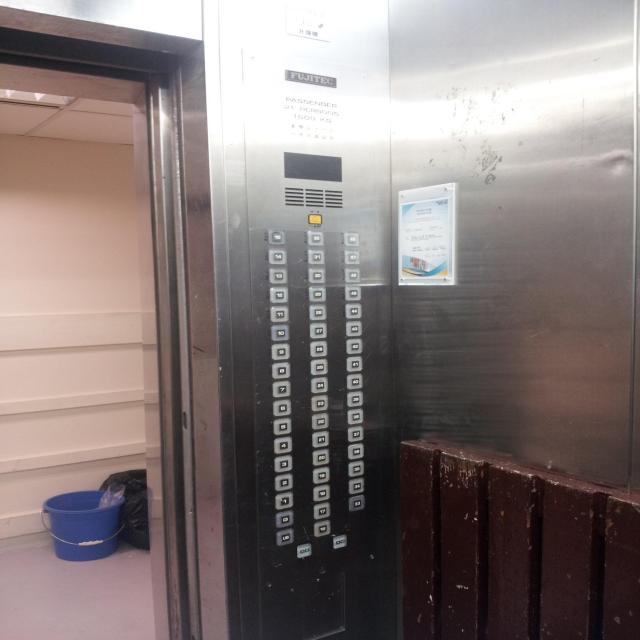1: (275, 492, 293, 509)
10: (271, 325, 289, 340)
11: (270, 306, 289, 322)
12: (269, 286, 288, 302)
13: (269, 268, 287, 283)
14: (268, 248, 287, 264)
15: (268, 229, 286, 245)
16: (314, 520, 329, 536)
17: (313, 502, 330, 519)
18: (313, 485, 329, 501)
19: (312, 467, 329, 483)
2: (275, 474, 292, 491)
20: (313, 449, 329, 464)
21: (312, 431, 328, 447)
22: (311, 413, 328, 429)
23: (311, 394, 328, 410)
24: (311, 377, 327, 393)
25: (310, 359, 327, 375)
26: (310, 341, 327, 356)
27: (310, 322, 326, 338)
28: (309, 304, 326, 319)
29: (309, 286, 325, 301)
3: (274, 455, 292, 472)
30: (308, 268, 325, 282)
31: (308, 249, 324, 264)
32: (307, 230, 324, 246)
33: (349, 494, 364, 510)
34: (349, 478, 363, 493)
35: (348, 460, 364, 476)
36: (348, 443, 363, 459)
37: (347, 426, 363, 441)
38: (347, 408, 363, 424)
39: (347, 391, 362, 407)
4: (274, 436, 292, 453)
40: (347, 373, 362, 389)
41: (346, 356, 362, 371)
42: (346, 339, 362, 353)
43: (345, 321, 362, 336)
44: (345, 303, 361, 318)
45: (344, 286, 360, 300)
46: (344, 268, 360, 282)
47: (344, 250, 359, 264)
48: (344, 230, 359, 246)
5: (273, 418, 291, 434)
6: (273, 400, 290, 415)
7: (272, 381, 290, 396)
8: (272, 362, 290, 378)
9: (271, 344, 290, 359)
DC: (333, 534, 346, 549)
DO: (296, 543, 312, 558)
G: (276, 510, 292, 528)
UB: (276, 528, 294, 545)
alarm: (308, 214, 322, 224)
led: (283, 151, 342, 182)
